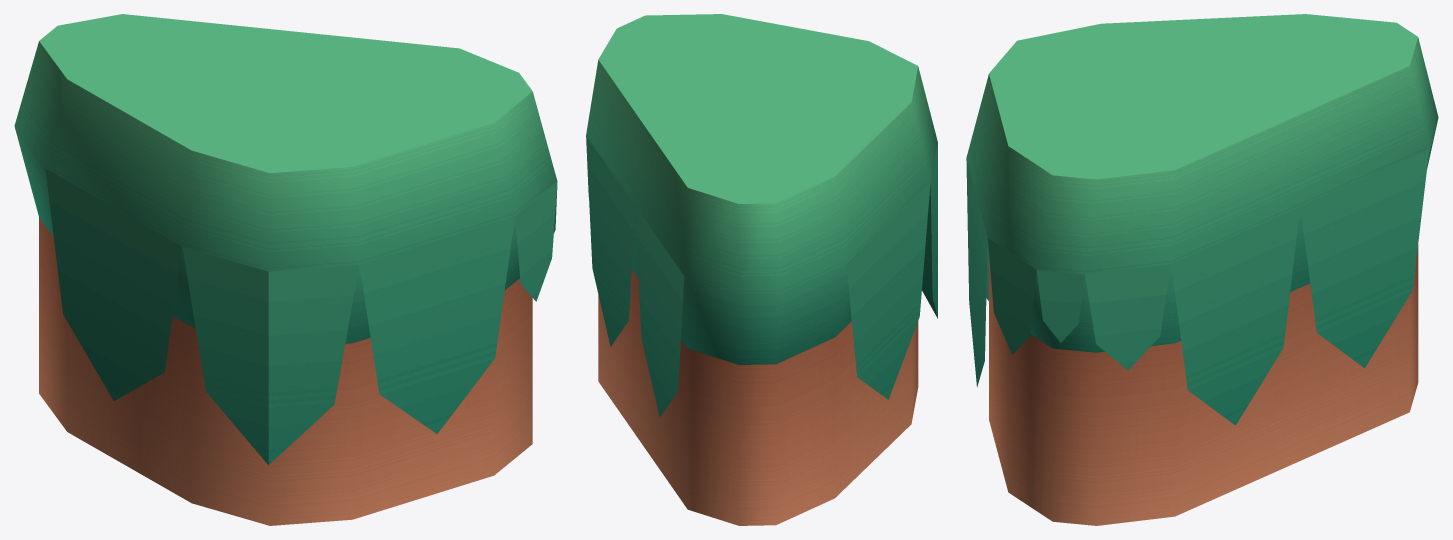
Rendered from block-grass-corner-overhang-low.001_lev2.glb.
The picture shows the model from 3 angles, left to right: view 1: azimuth 30°, elevation 25°; view 2: azimuth 150°, elevation 25°; view 3: azimuth 270°, elevation 25°; orthographic projection. The views are drawn at different scales.
Parts seen in each view (by area): view 1: block-grass-corner-overhang-low.001_lev2; view 2: block-grass-corner-overhang-low.001_lev2; view 3: block-grass-corner-overhang-low.001_lev2.
Boxes of the visible parts, x1,y1,x2,y2 form: block-grass-corner-overhang-low.001_lev2: (14, 14, 557, 525); block-grass-corner-overhang-low.001_lev2: (586, 14, 937, 525); block-grass-corner-overhang-low.001_lev2: (966, 14, 1438, 525).
Bounding box in the file's own units: 1.97 × 1.74 × 2.15.
Materials: 1 (1 with a texture image).
